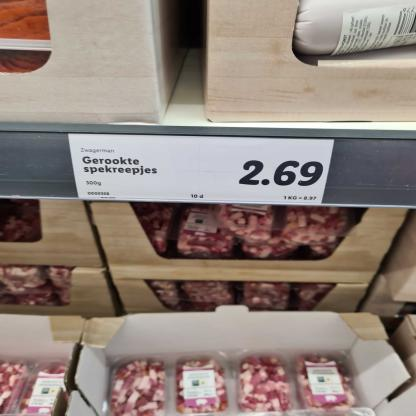prtg: (69, 134, 335, 205)
